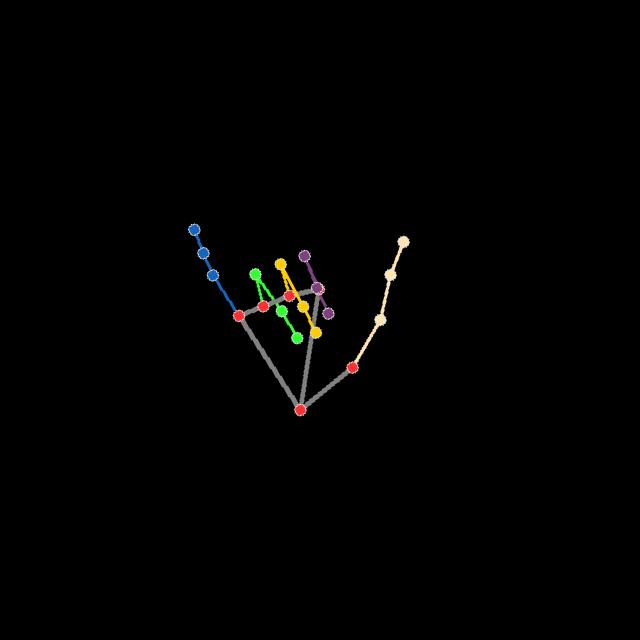skr: (187, 223, 412, 417)
